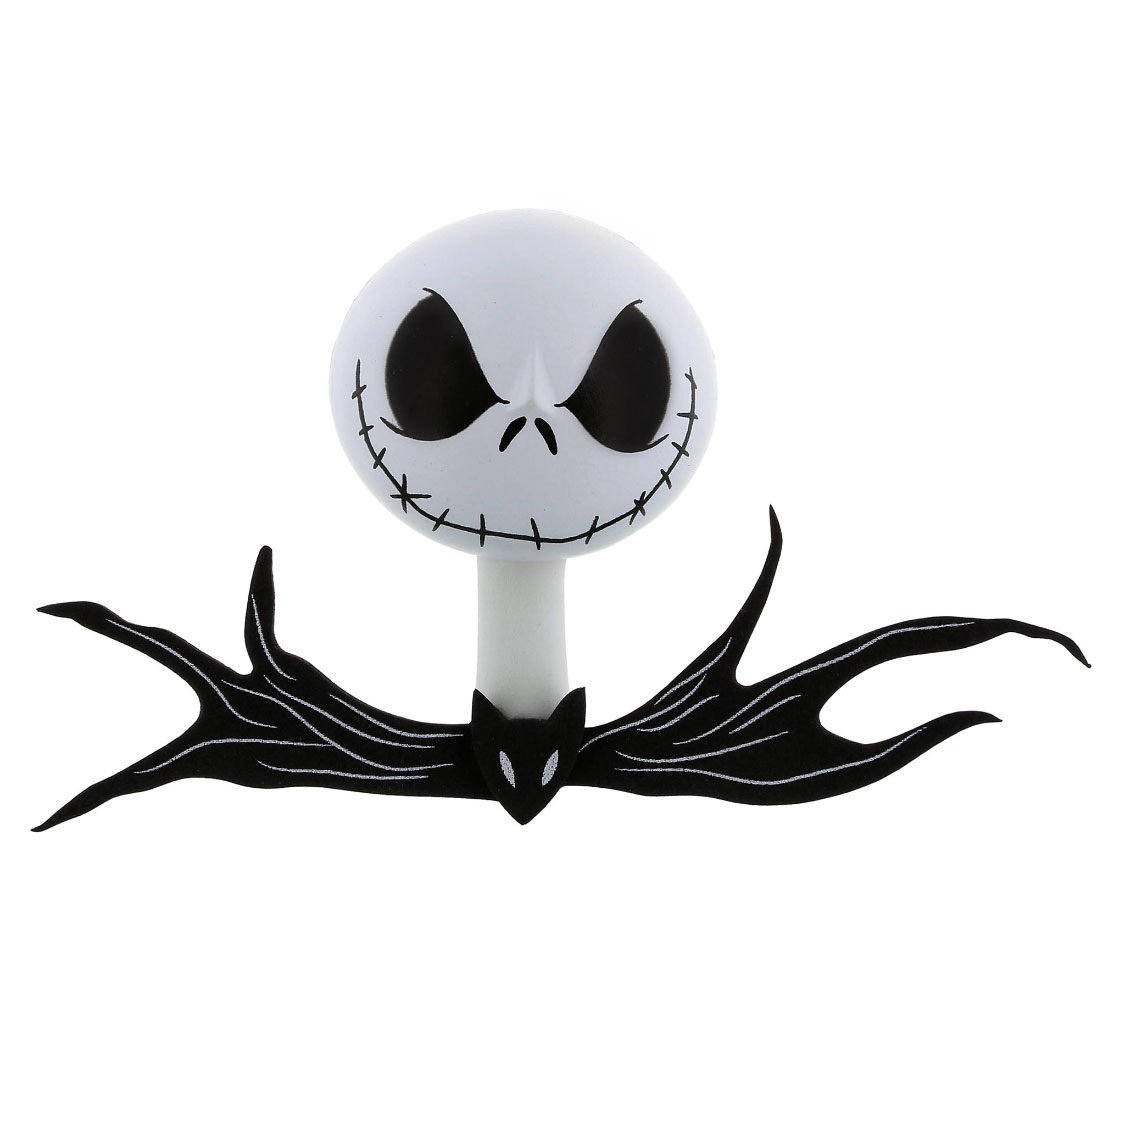Jack Skellington: (29, 204, 1094, 838)
